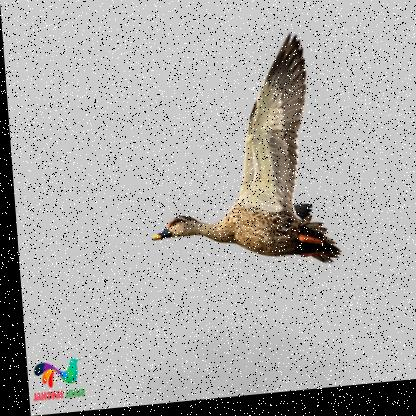Burung: (137, 35, 339, 281)
